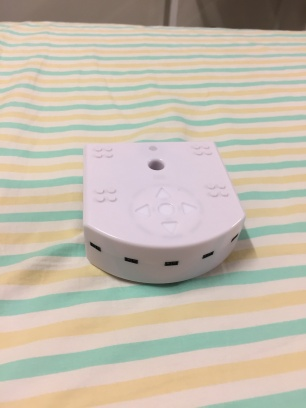thymio: (76, 138, 246, 291)
